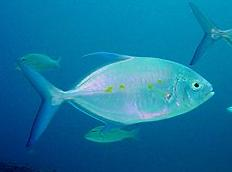Carangidae -Jacks-: (8, 44, 216, 147)
